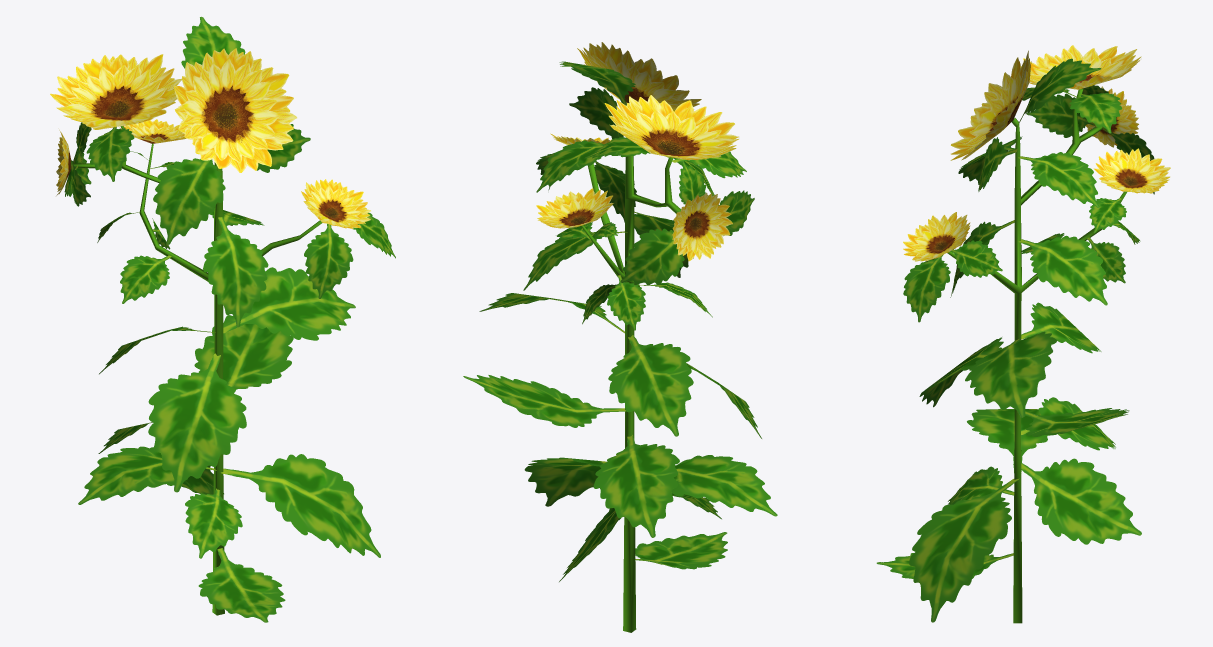
Rendered from Sunflower 2.fbx.
The picture shows the model from 3 angles, left to right: view 1: azimuth 30°, elevation 25°; view 2: azimuth 150°, elevation 25°; view 3: azimuth 270°, elevation 25°; orthographic projection. The views are drawn at different scales.
Visible parts, largest first — view 1: Sunflower 2; view 2: Sunflower 2; view 3: Sunflower 2.
Boxes of the visible parts, bbox=[...] form: Sunflower 2: bbox=[50, 16, 395, 622]; Sunflower 2: bbox=[463, 42, 777, 632]; Sunflower 2: bbox=[876, 45, 1170, 623].
Size of the model in its own units: 0.6671 by 1.12 by 0.5893.
